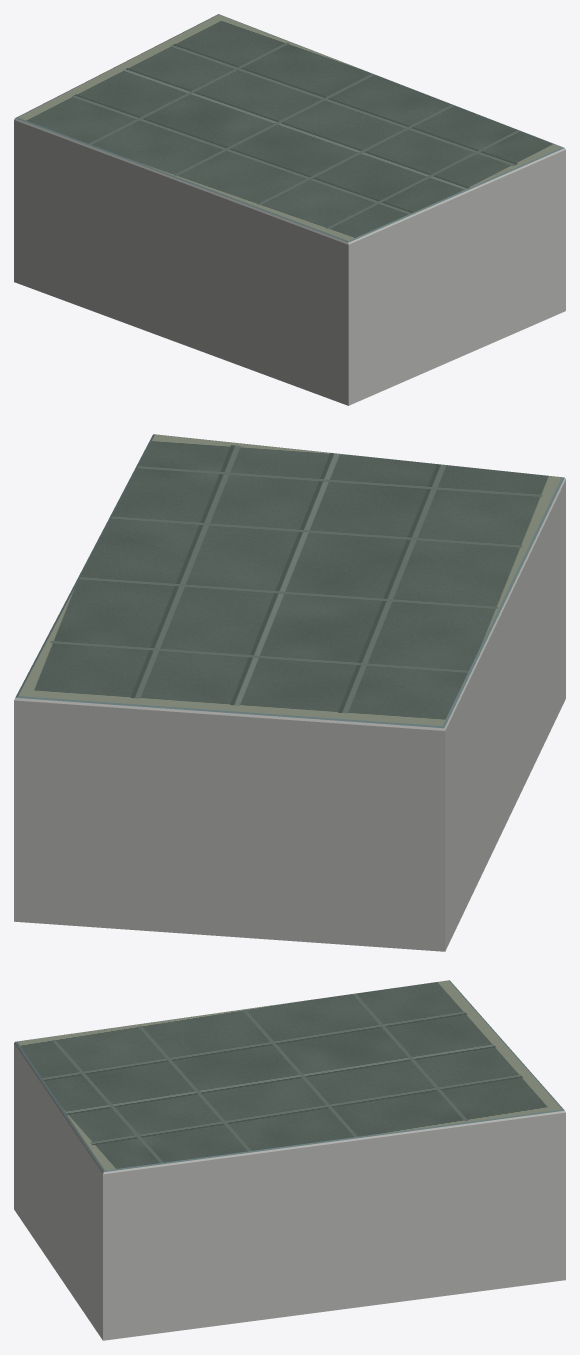
File: fragments.glb
3 views of the same model, one above another, from view 1: azimuth 30°, elevation 25°; view 2: azimuth 150°, elevation 25°; view 3: azimuth 270°, elevation 25° (orthographic). The views are drawn at different scales.
Visible parts, largest first — view 1: SM_gh51_Fragment_053, SM_gh51_Fragment_050, SM_gh51_Fragment_011, SM_gh51_Fragment_024, SM_gh51_Fragment_009, SM_gh51_Fragment_043, SM_gh51_Fragment_046, SM_gh51_Fragment_003, SM_gh51_Fragment_039, SM_gh51_Fragment_036, SM_gh51_Fragment_018, SM_gh51_Fragment_054 (+26 smaller); view 2: SM_gh51_Fragment_037, SM_gh51_Fragment_027, SM_gh51_Fragment_060, SM_gh51_Fragment_023, SM_gh51_Fragment_047, SM_gh51_Fragment_044, SM_gh51_Fragment_008, SM_gh51_Fragment_042, SM_gh51_Fragment_038, SM_gh51_Fragment_006, SM_gh51_Fragment_031, SM_gh51_Fragment_001 (+26 smaller); view 3: SM_gh51_Fragment_014, SM_gh51_Fragment_009, SM_gh51_Fragment_051, SM_gh51_Fragment_034, SM_gh51_Fragment_055, SM_gh51_Fragment_030, SM_gh51_Fragment_015, SM_gh51_Fragment_035, SM_gh51_Fragment_011, SM_gh51_Fragment_005, SM_gh51_Fragment_038, SM_gh51_Fragment_041 (+26 smaller).
Boxes of the visible parts, x1=… form: SM_gh51_Fragment_053: x1=296, y1=191, x2=411, y2=305; SM_gh51_Fragment_050: x1=268, y1=279, x2=358, y2=388; SM_gh51_Fragment_011: x1=332, y1=162, x2=479, y2=249; SM_gh51_Fragment_024: x1=197, y1=254, x2=272, y2=377; SM_gh51_Fragment_009: x1=481, y1=123, x2=565, y2=251; SM_gh51_Fragment_043: x1=392, y1=245, x2=480, y2=377; SM_gh51_Fragment_046: x1=67, y1=129, x2=153, y2=234; SM_gh51_Fragment_003: x1=235, y1=183, x2=340, y2=281; SM_gh51_Fragment_039: x1=159, y1=162, x2=266, y2=257; SM_gh51_Fragment_036: x1=418, y1=133, x2=518, y2=255; SM_gh51_Fragment_018: x1=340, y1=223, x2=440, y2=335; SM_gh51_Fragment_054: x1=75, y1=224, x2=156, y2=327; SM_gh51_Fragment_037: x1=21, y1=663, x2=196, y2=829; SM_gh51_Fragment_027: x1=202, y1=693, x2=363, y2=864; SM_gh51_Fragment_060: x1=347, y1=729, x2=464, y2=873; SM_gh51_Fragment_023: x1=95, y1=825, x2=227, y2=936; SM_gh51_Fragment_047: x1=171, y1=672, x2=306, y2=806; SM_gh51_Fragment_044: x1=331, y1=851, x2=458, y2=951; SM_gh51_Fragment_008: x1=226, y1=856, x2=342, y2=944; SM_gh51_Fragment_042: x1=14, y1=820, x2=98, y2=927; SM_gh51_Fragment_038: x1=85, y1=595, x2=257, y2=664; SM_gh51_Fragment_006: x1=245, y1=546, x2=417, y2=610; SM_gh51_Fragment_031: x1=245, y1=634, x2=413, y2=697; SM_gh51_Fragment_001: x1=359, y1=674, x2=470, y2=764; SM_gh51_Fragment_014: x1=438, y1=1097, x2=565, y2=1222; SM_gh51_Fragment_009: x1=79, y1=1143, x2=189, y2=1262; SM_gh51_Fragment_051: x1=140, y1=1148, x2=247, y2=1278; SM_gh51_Fragment_034: x1=208, y1=1122, x2=339, y2=1206; SM_gh51_Fragment_055: x1=314, y1=1158, x2=430, y2=1249; SM_gh51_Fragment_030: x1=321, y1=1104, x2=460, y2=1183; SM_gh51_Fragment_015: x1=81, y1=1237, x2=166, y2=1340; SM_gh51_Fragment_035: x1=409, y1=1179, x2=525, y2=1269; SM_gh51_Fragment_011: x1=39, y1=1064, x2=147, y2=1169; SM_gh51_Fragment_005: x1=231, y1=1193, x2=327, y2=1261; SM_gh51_Fragment_038: x1=332, y1=1061, x2=477, y2=1110; SM_gh51_Fragment_041: x1=314, y1=1246, x2=397, y2=1312.
Bounding box in the file's own units: 1.82 × 0.7475 × 2.2.
Materials: 4 (1 with a texture image).
